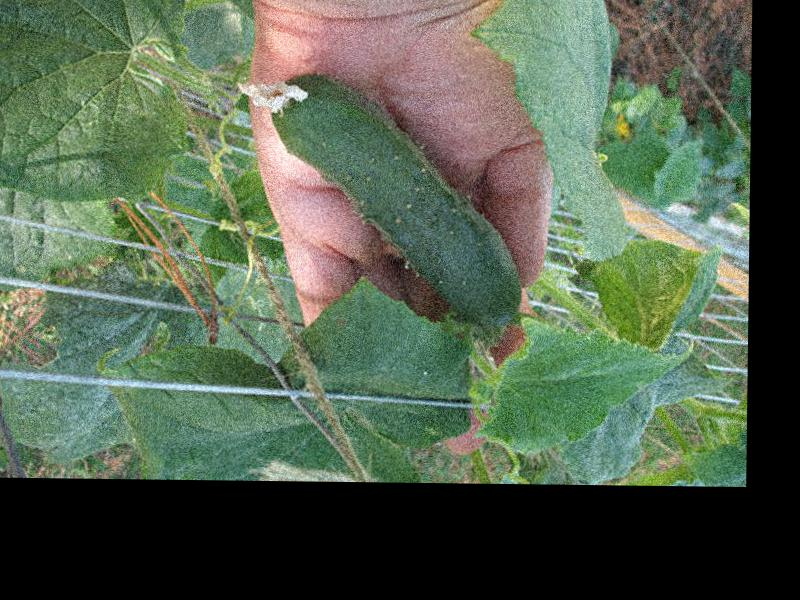Cucumber: (232, 73, 522, 328)
